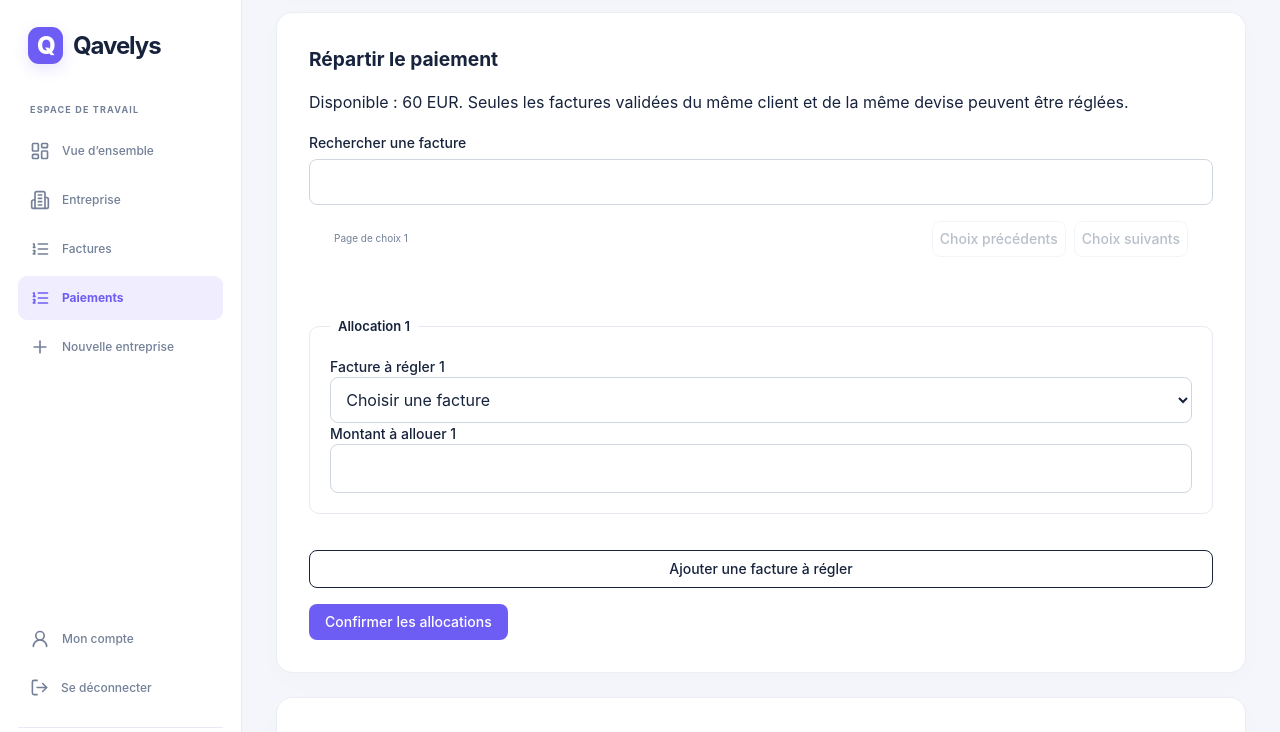
Test: Paiements et export connectés › conserve les montants du formulaire quand une allocation est refusée
(page scrolled)
Select "FAC-000001 - dû 100 EUR" in the dropdown labelled "Facture à régler 1". click: (761, 400)
box: [330, 377, 1192, 423]
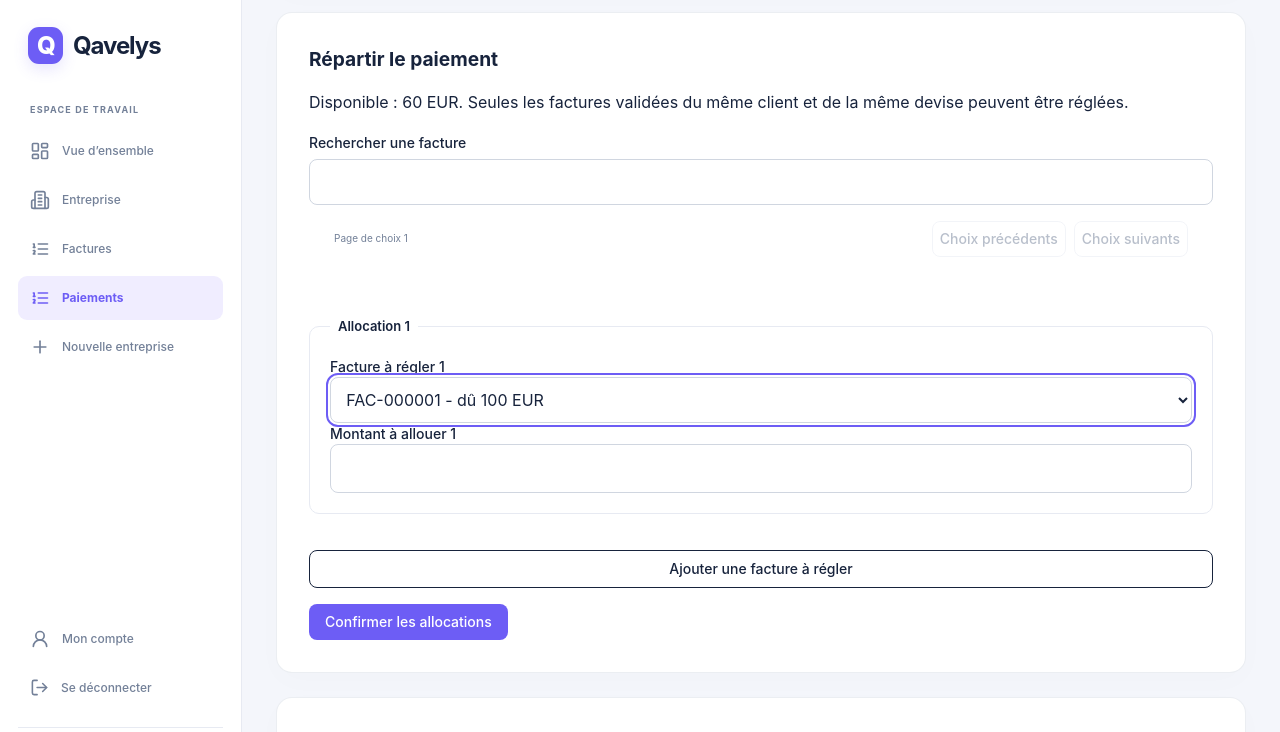
Type "80" into the field labelled "Montant à allouer 1". click: (761, 469)
box: [330, 444, 1192, 493]
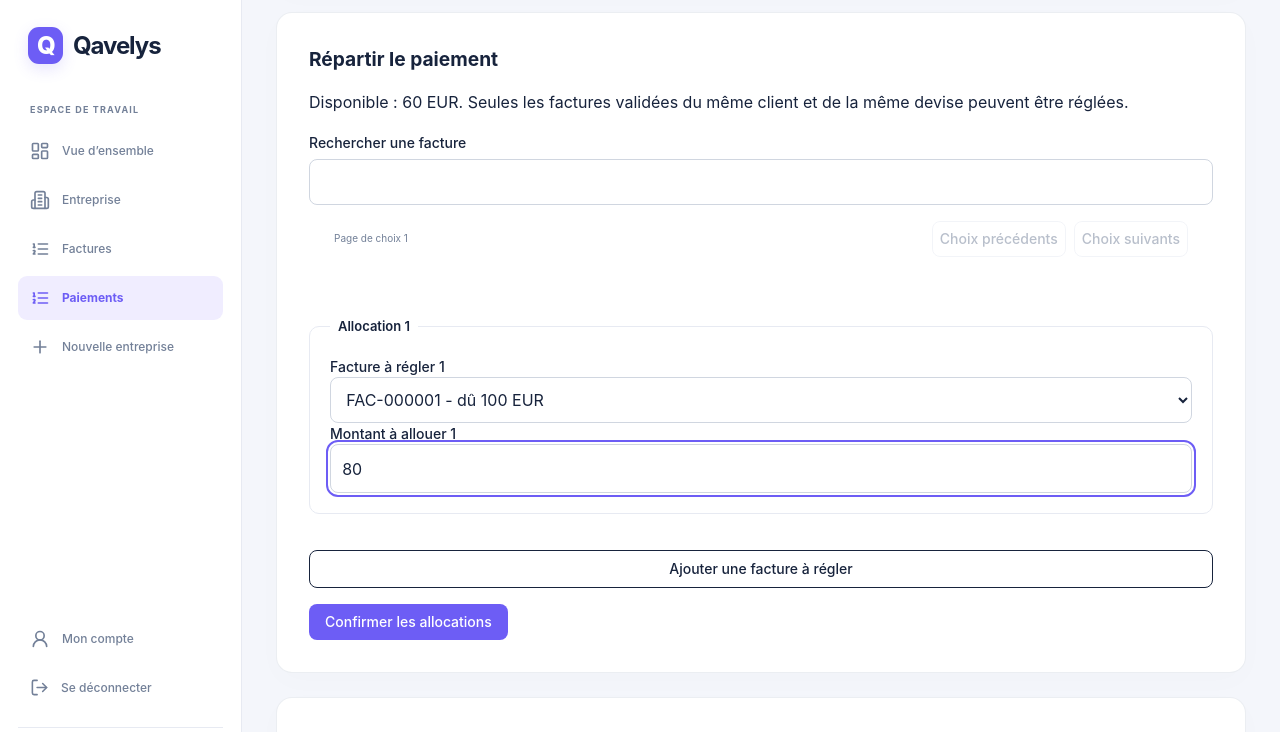
Click the button "Confirmer les allocations". click: (408, 622)
box: [309, 604, 508, 640]
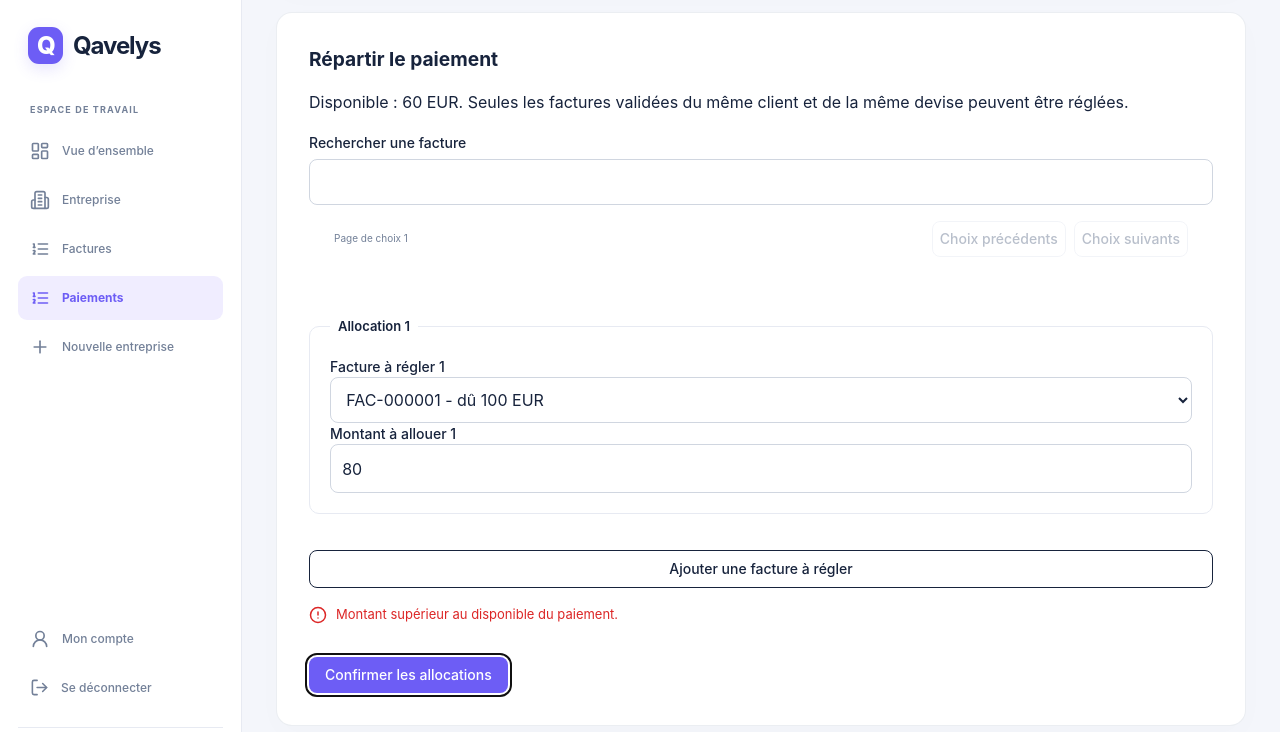
Check: the text "Montant supérieur au disponible du paiement." is shown, box [309, 606, 618, 624]
